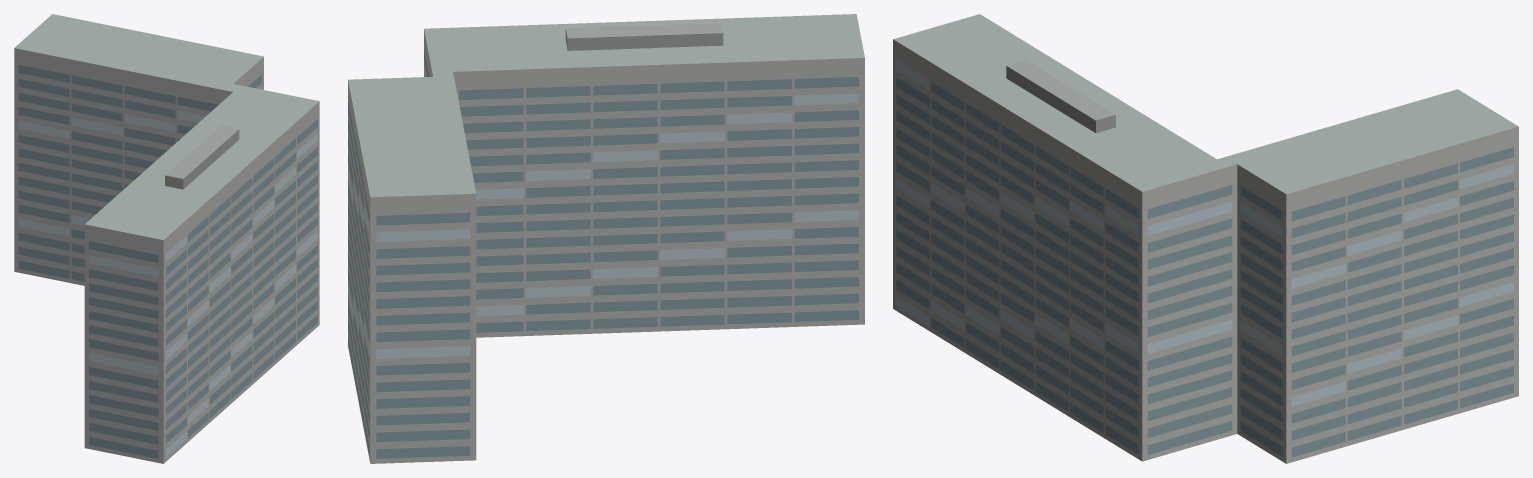
File: apt-a13580601.glb
3 views of the same model, side by side, from view 1: azimuth 30°, elevation 25°; view 2: azimuth 150°, elevation 25°; view 3: azimuth 270°, elevation 25° (orthographic). The views are drawn at different scales.
Visible parts, largest first — view 1: apt-a13580601; view 2: apt-a13580601; view 3: apt-a13580601.
Part boxes in pixels (<box>): apt-a13580601: <box>14,14,319,463</box>; apt-a13580601: <box>348,14,864,463</box>; apt-a13580601: <box>893,14,1518,463</box>.
Bounding box in the file's own units: 57.51 × 42 × 84.35.
